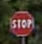stop: (8, 9, 35, 36)
